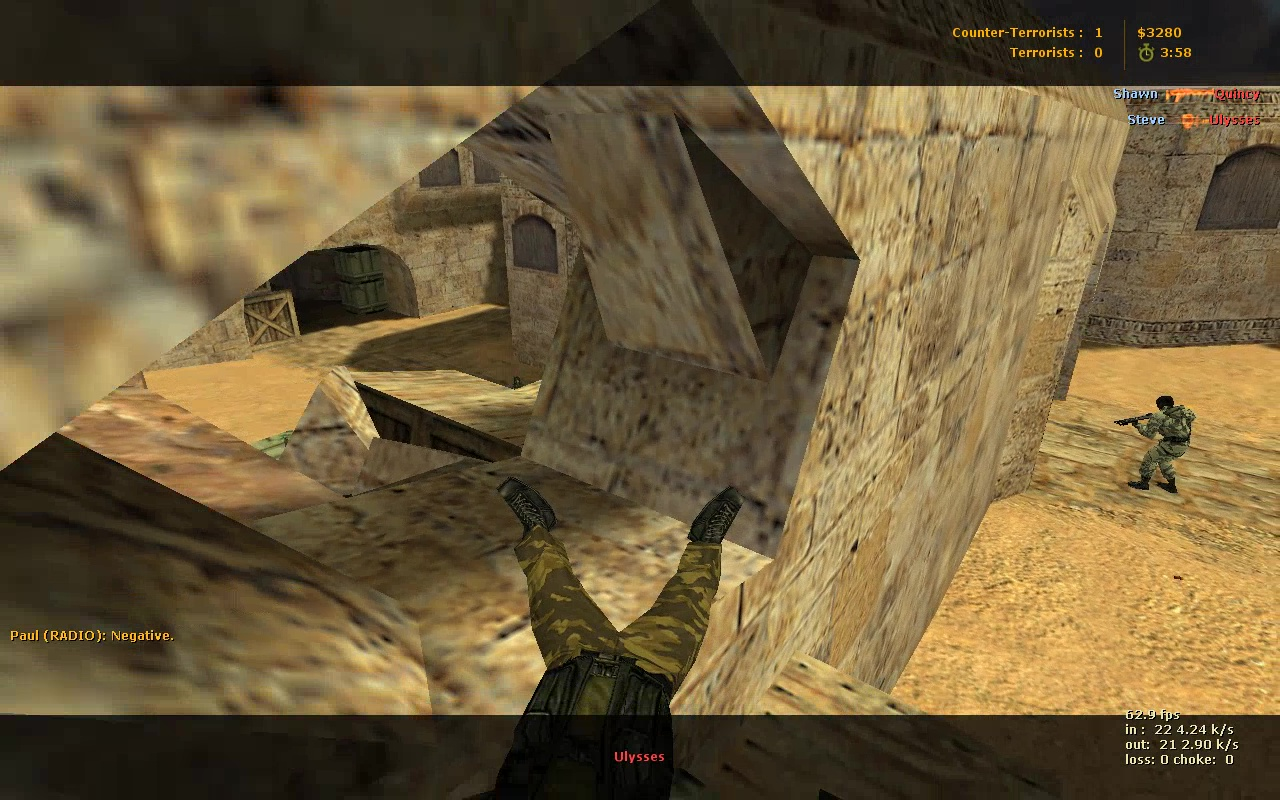terr2: (1131, 394, 1200, 504)
